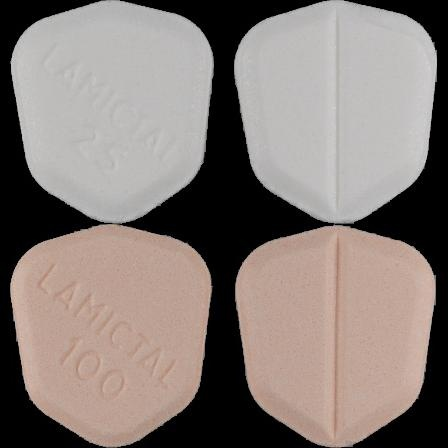54868-4673: (0, 0, 224, 224)
